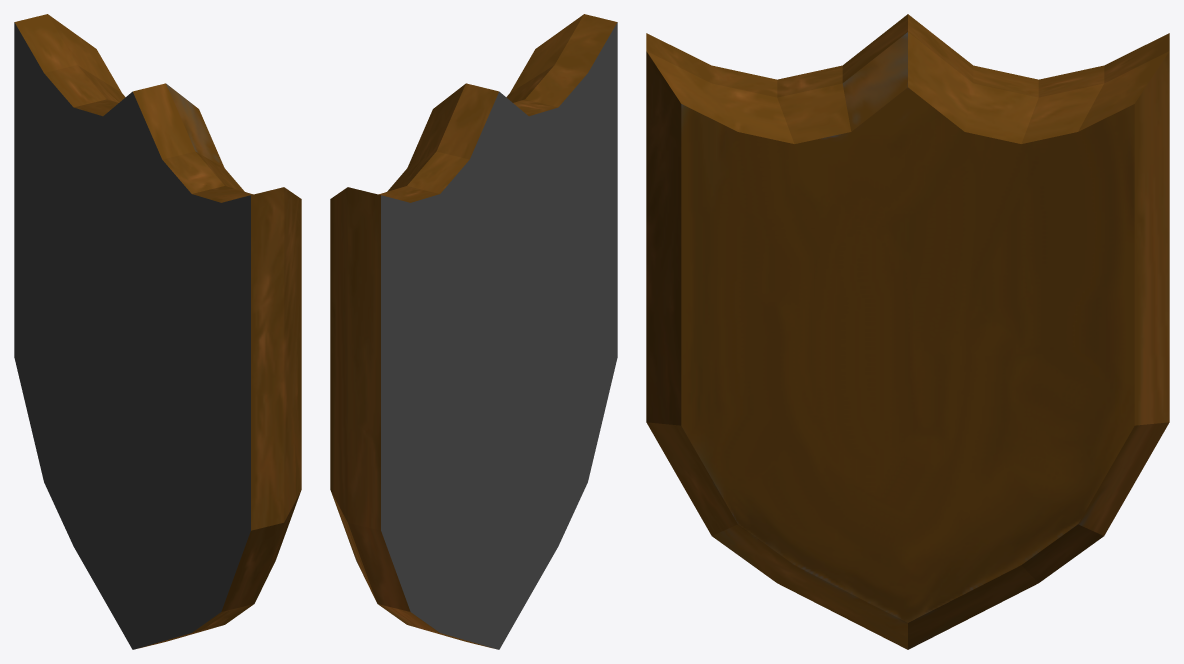
Rendered from kalkan.fbx.
The picture shows the model from 3 angles, left to right: view 1: azimuth 30°, elevation 25°; view 2: azimuth 150°, elevation 25°; view 3: azimuth 270°, elevation 25°; orthographic projection. The views are drawn at different scales.
Parts seen in each view (by area): view 1: Plane.005; view 2: Plane.005; view 3: Plane.005.
Part boxes in pixels (x1=…): Plane.005: x1=14, y1=14, x2=301, y2=649; Plane.005: x1=330, y1=14, x2=617, y2=649; Plane.005: x1=646, y1=14, x2=1169, y2=649.
Bounding box in the file's own units: 0.3031 × 2.44 × 1.87.
Materials: 1 (1 with a texture image).
